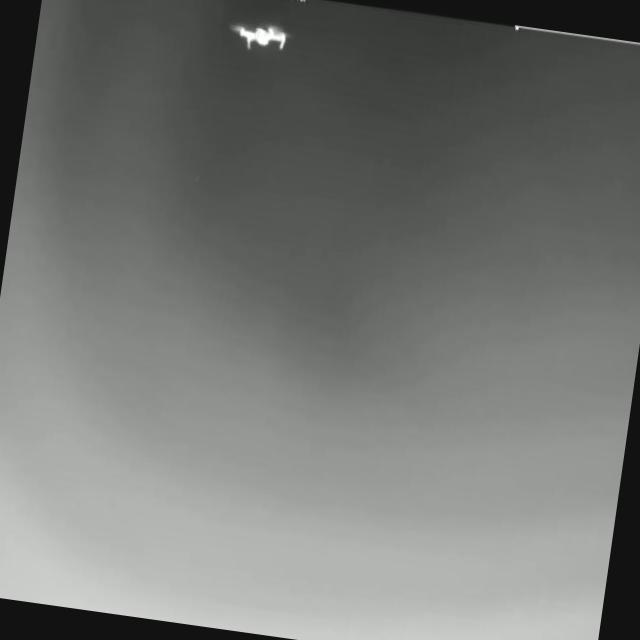DRONE: (228, 19, 293, 54)
